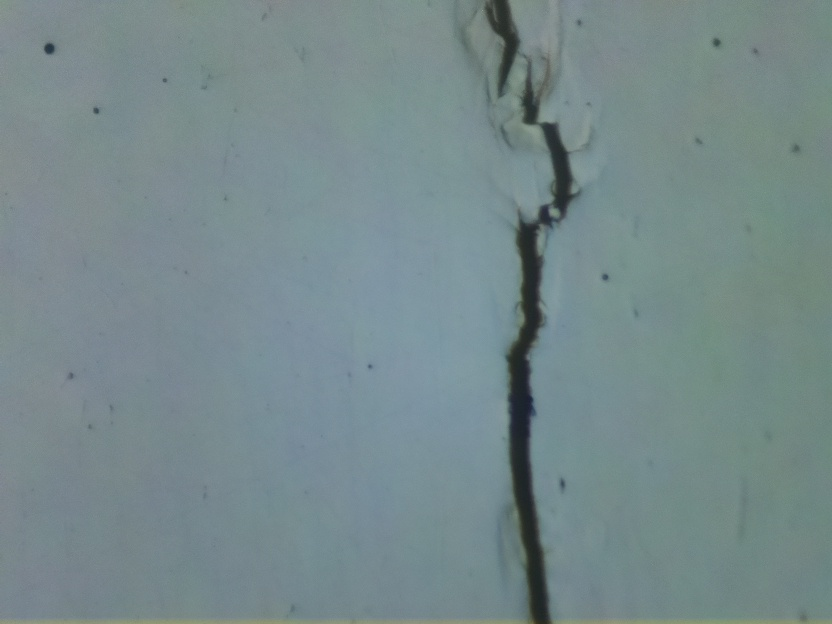crack: (507, 65, 576, 621), (485, 0, 525, 95)
